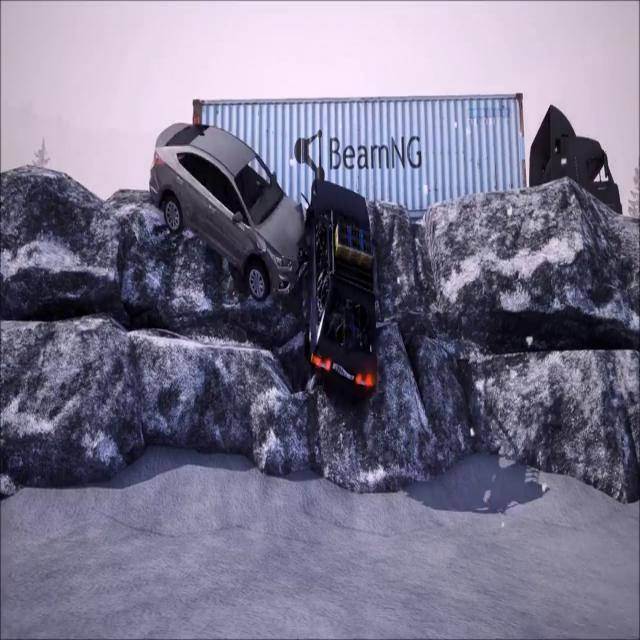accident: (145, 145, 404, 419)
